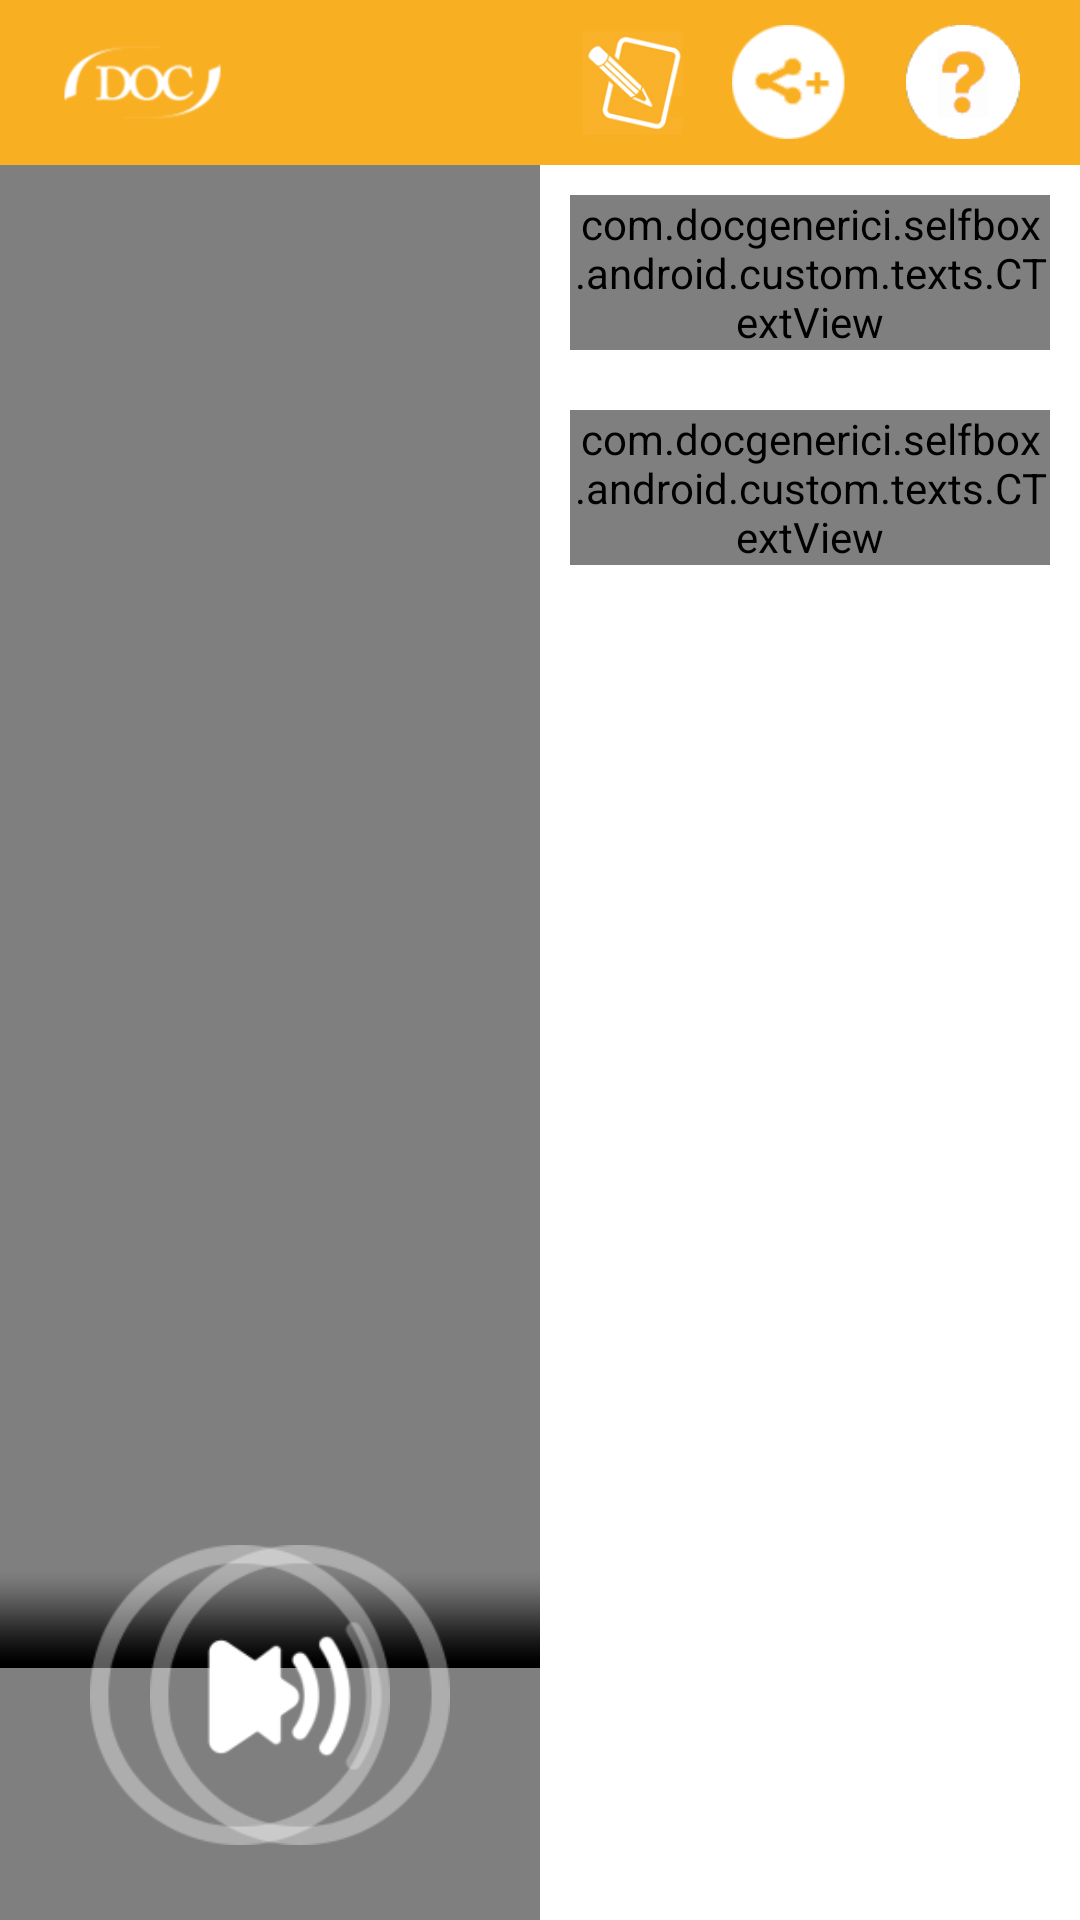

Where icons sit on this 1080 x 1920 app screen, as BBox(x1, y1, x2, y2):
help contents: BBox(906, 25, 1020, 139)
share: BBox(732, 25, 845, 139)
